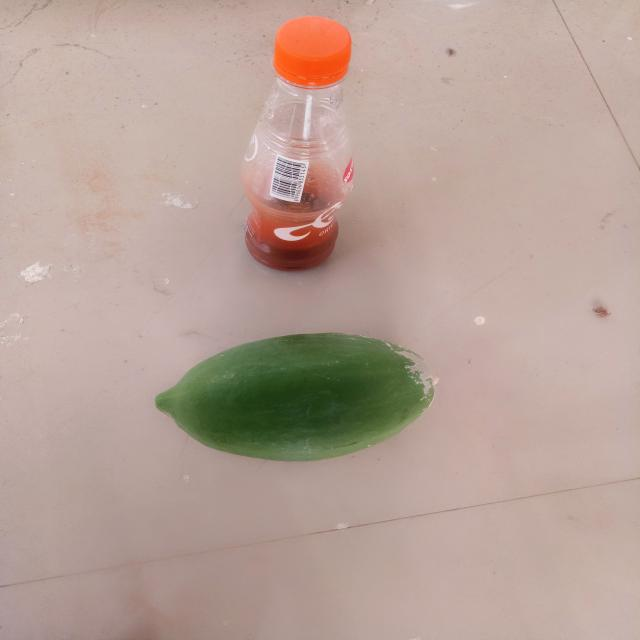Pepaya unrippen: (155, 330, 440, 462)
